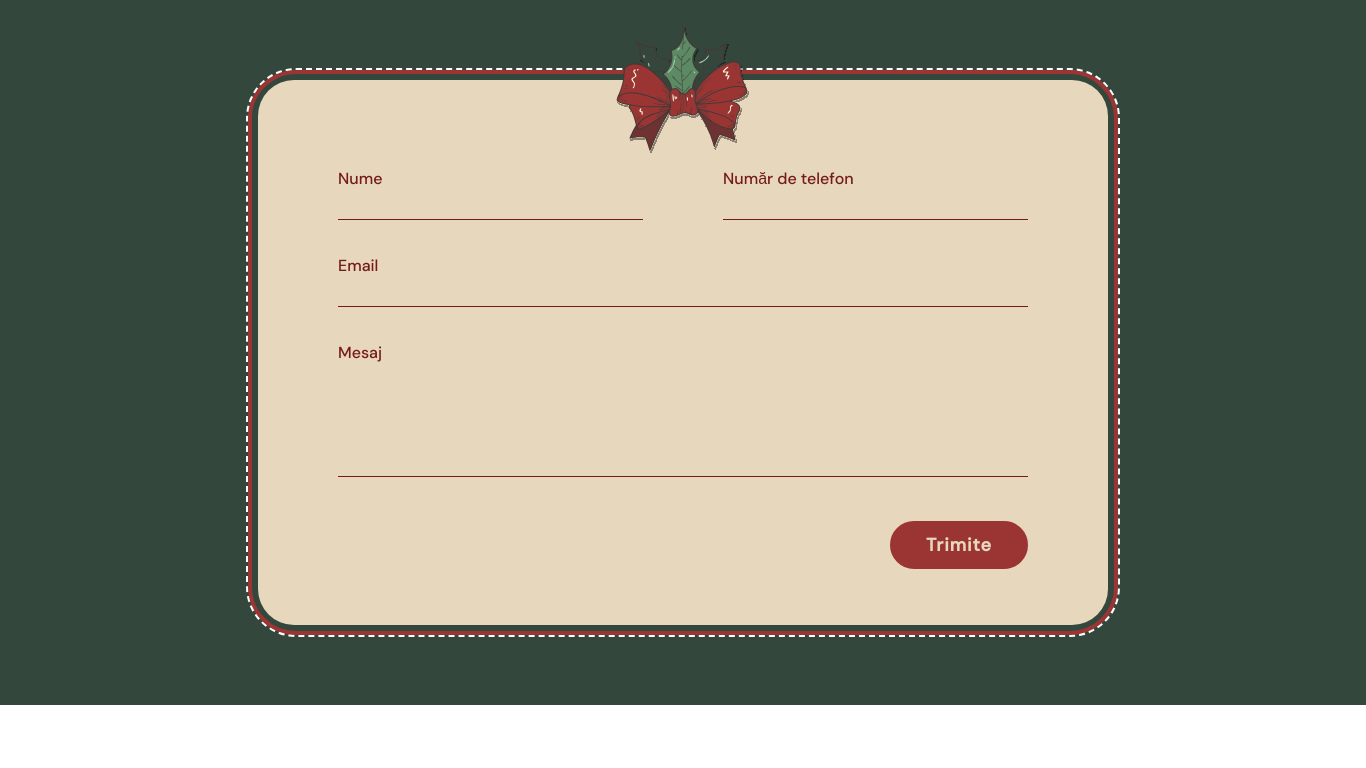
Test: sends all fields with configured identifiers and clears after success
Type "Sandbox test" into the field labelled "Nume" at (490, 206), box [338, 193, 643, 220]
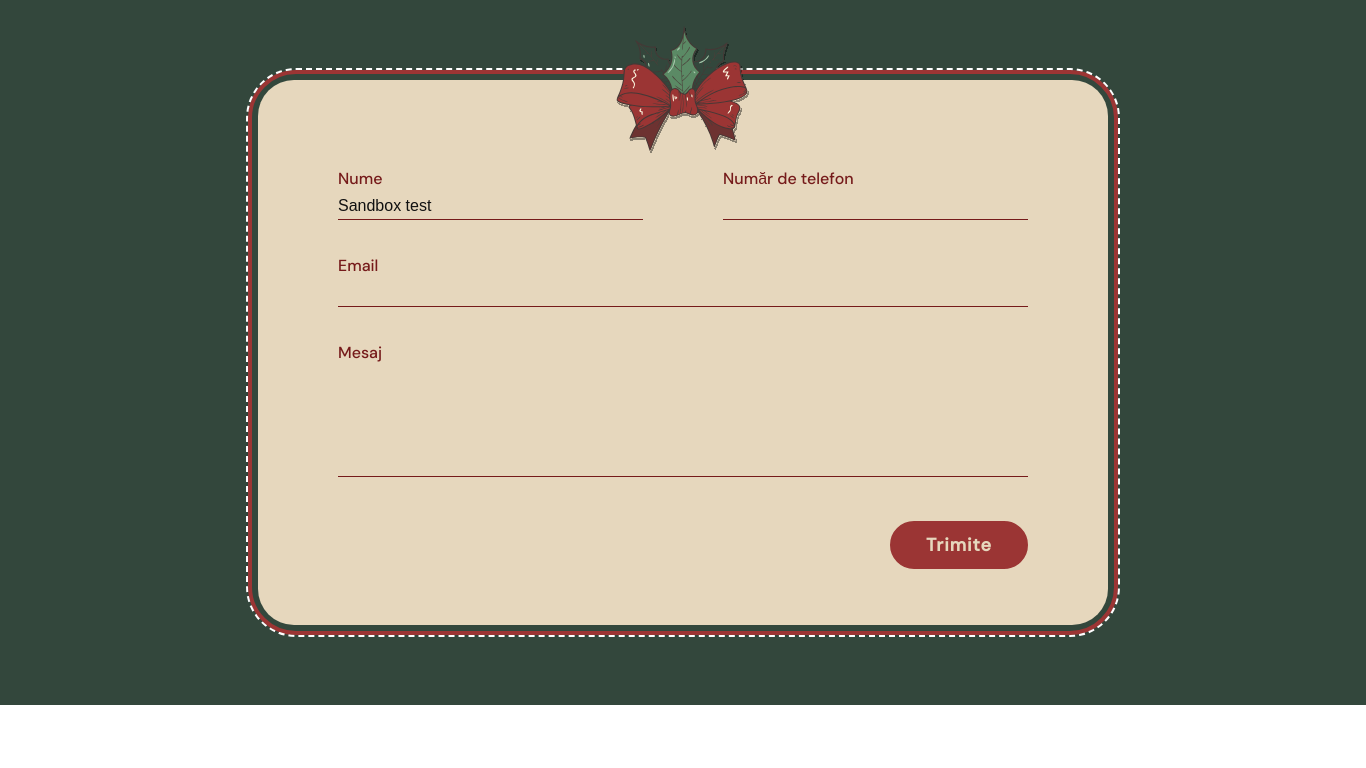
Type "0700000000" into the field labelled "Număr de telefon" at (876, 206), box [723, 193, 1028, 220]
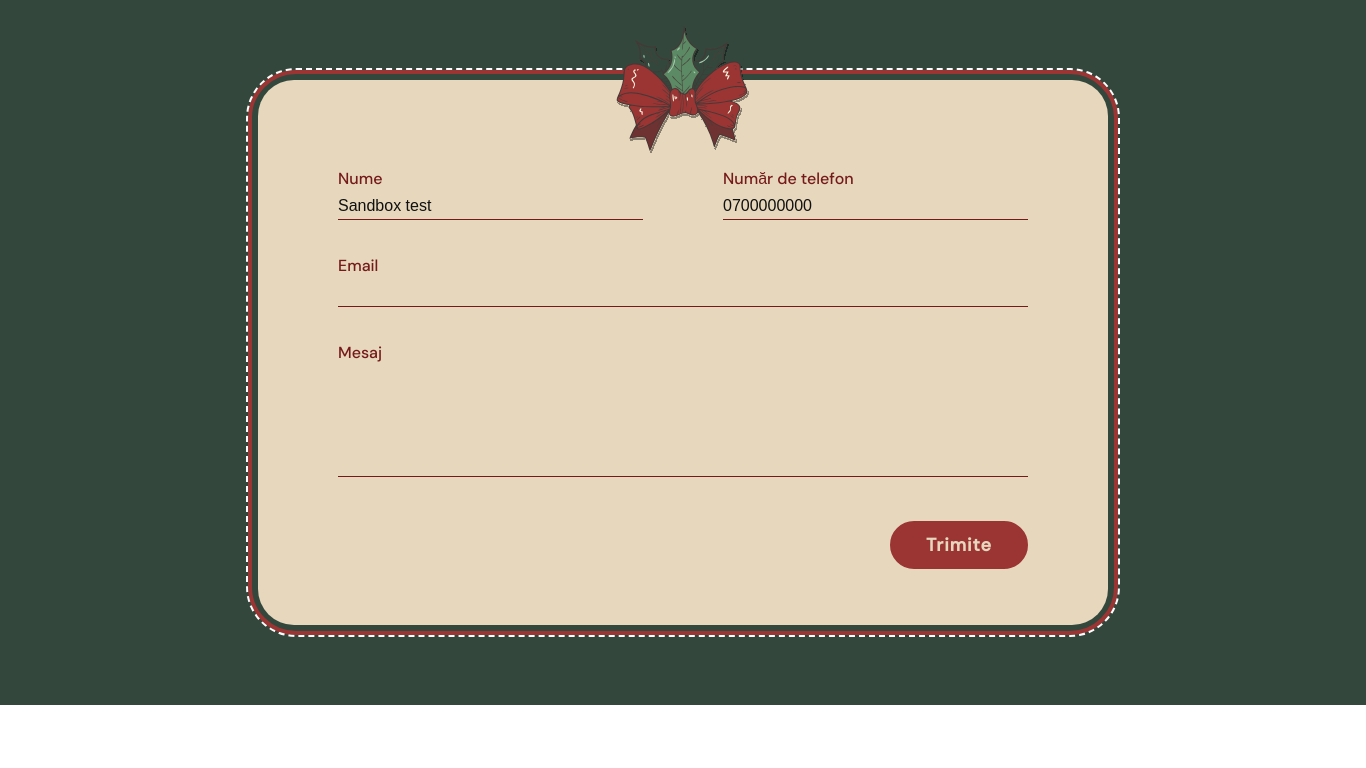
Type "sandbox@example.test" into the field labelled "Email" at (683, 294), box [338, 280, 1028, 307]
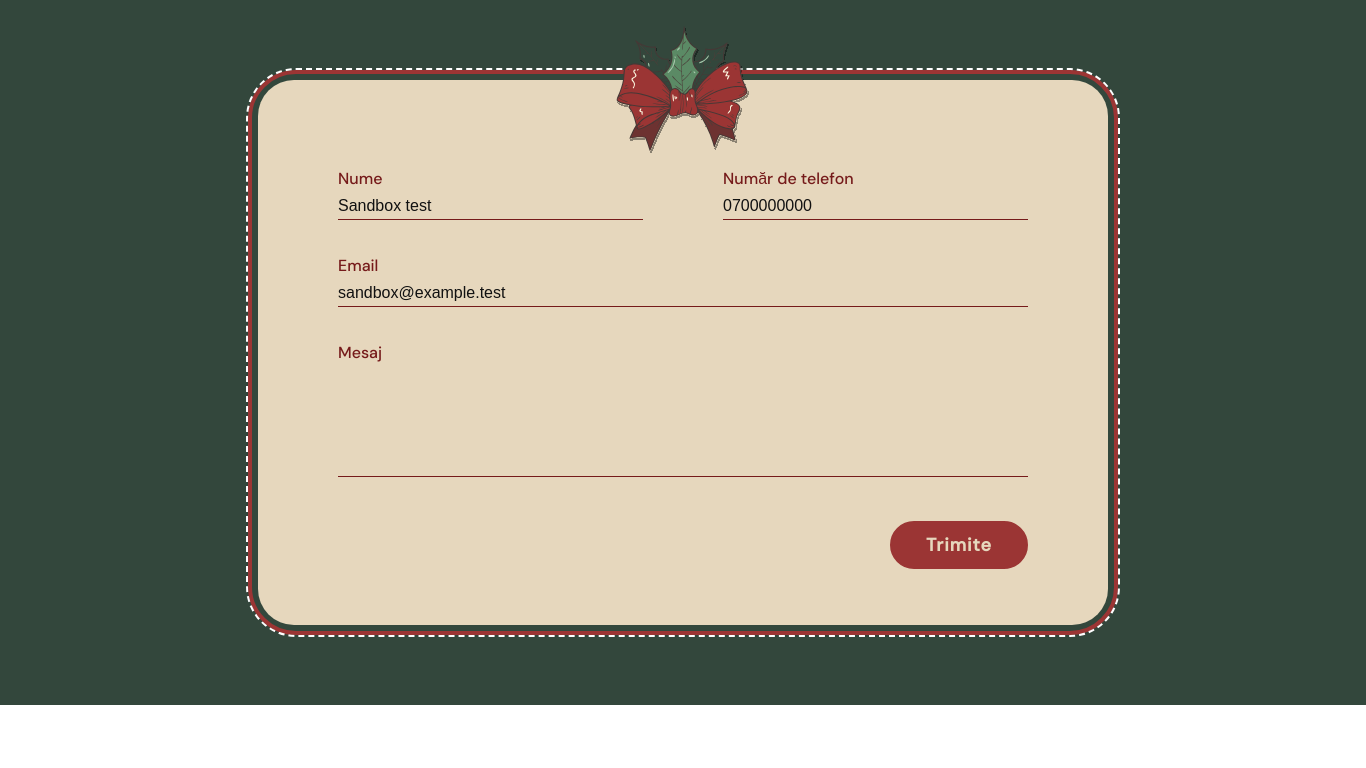
Type "Automated sandbox check; no email is sent." into the text box labelled "Mesaj" at (683, 422), box [338, 367, 1028, 477]
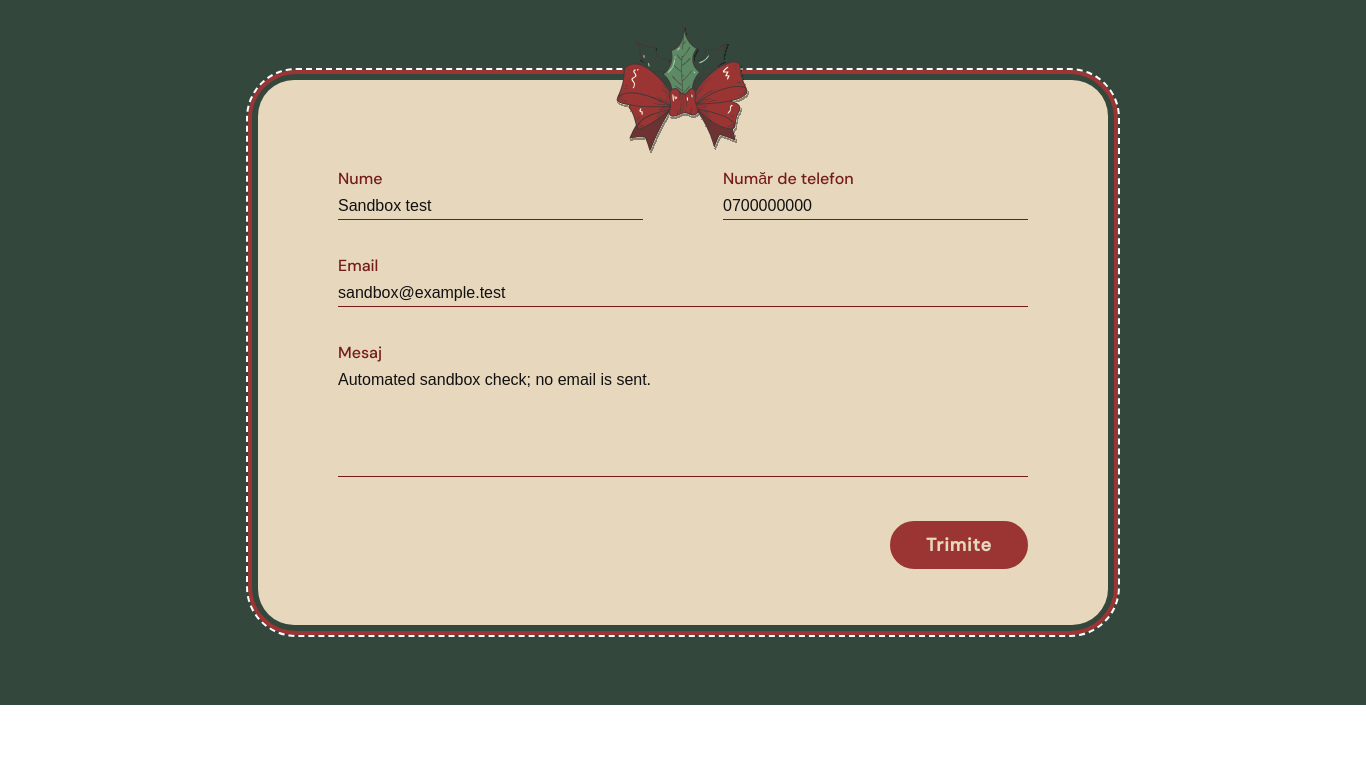
Submit the form, box [338, 168, 1028, 569]
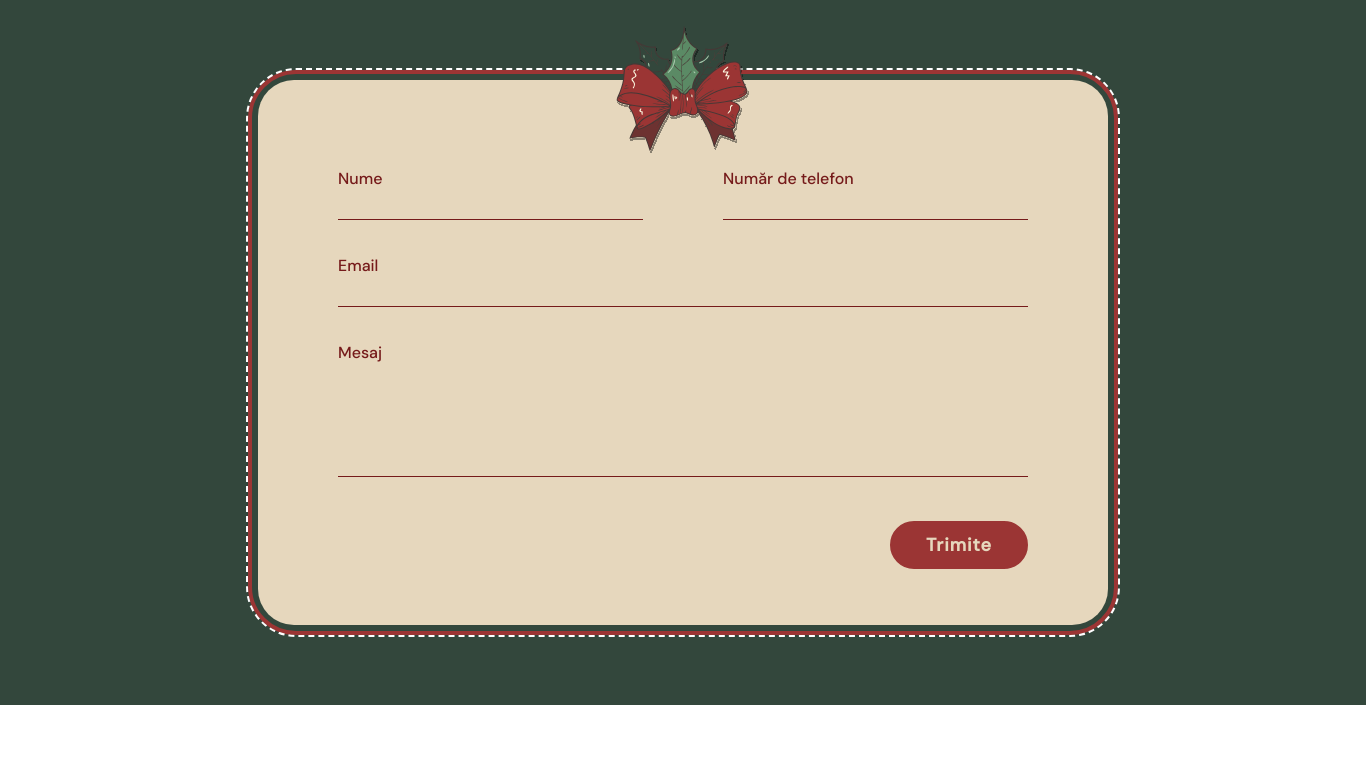
Expected: the field labelled "Email" is empty, [338, 280, 1028, 307]
Expected: the text box labelled "Mesaj" is empty, [338, 367, 1028, 477]
